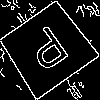P: (23, 23, 77, 81)
